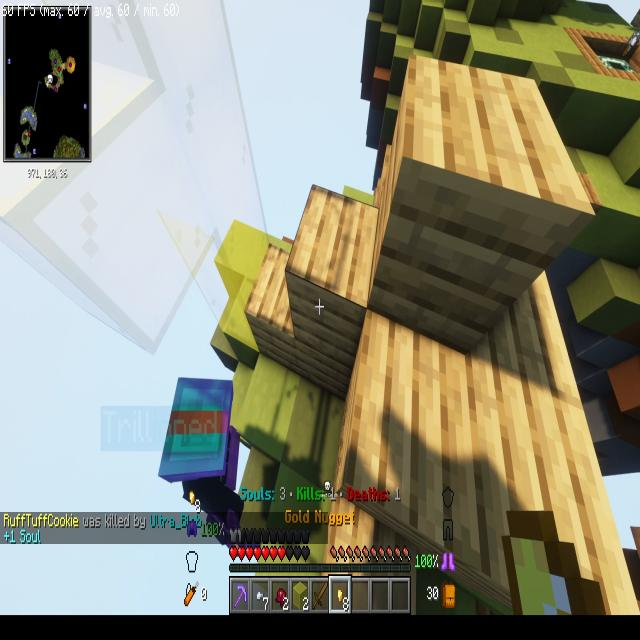Player: (157, 365, 256, 559)
